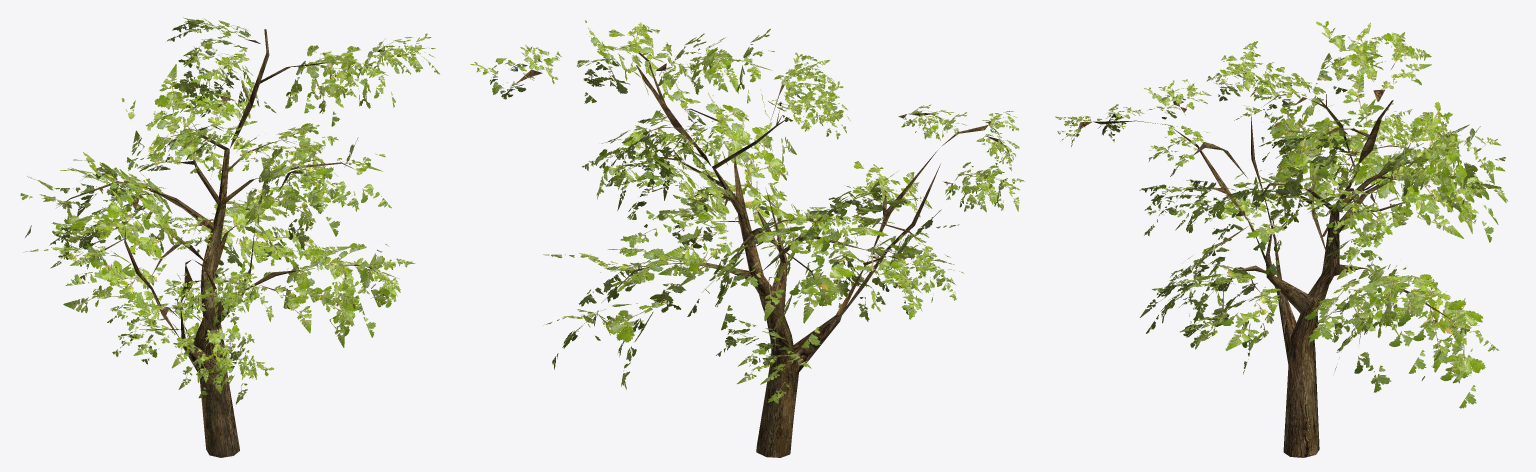
Rendered from Arbre_Chene.obj.
3 views of the same model, side by side, from view 1: azimuth 30°, elevation 25°; view 2: azimuth 150°, elevation 25°; view 3: azimuth 270°, elevation 25° (orthographic). The views are drawn at different scales.
Visible parts, largest first — view 1: tree small joined; view 2: tree small joined; view 3: tree small joined.
Part boxes in pixels (x1=…): tree small joined: x1=20, y1=17, x2=439, y2=457; tree small joined: x1=470, y1=20, x2=1024, y2=457; tree small joined: x1=1055, y1=21, x2=1508, y2=457.
Size of the model in its own units: 7.13 by 6.2 by 6.01.
2 materials, 2 textured.
